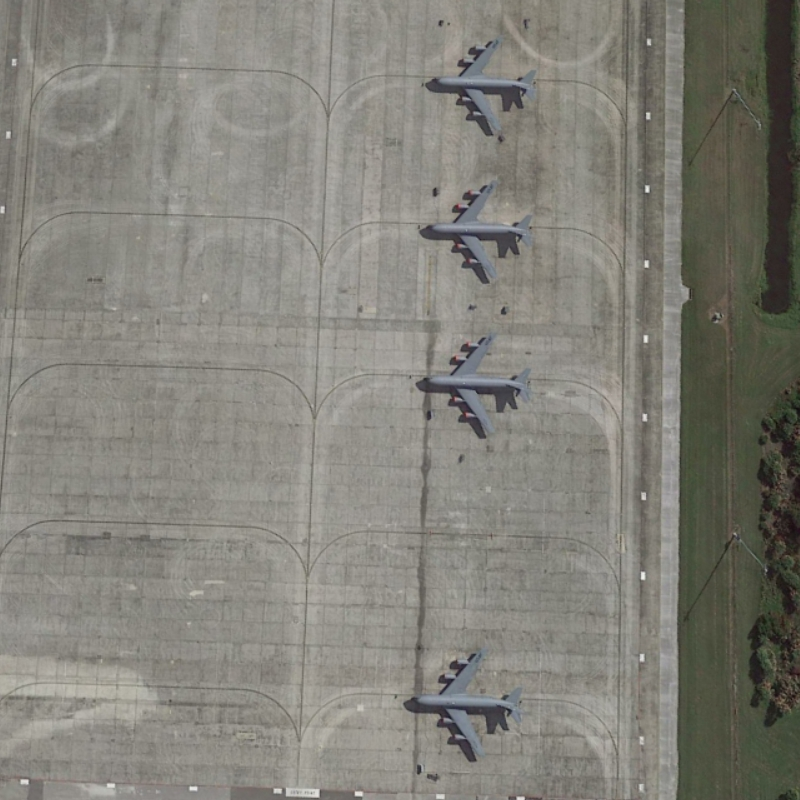A14: (409, 645, 527, 763), (421, 332, 536, 442), (426, 34, 541, 139), (422, 180, 536, 285)
